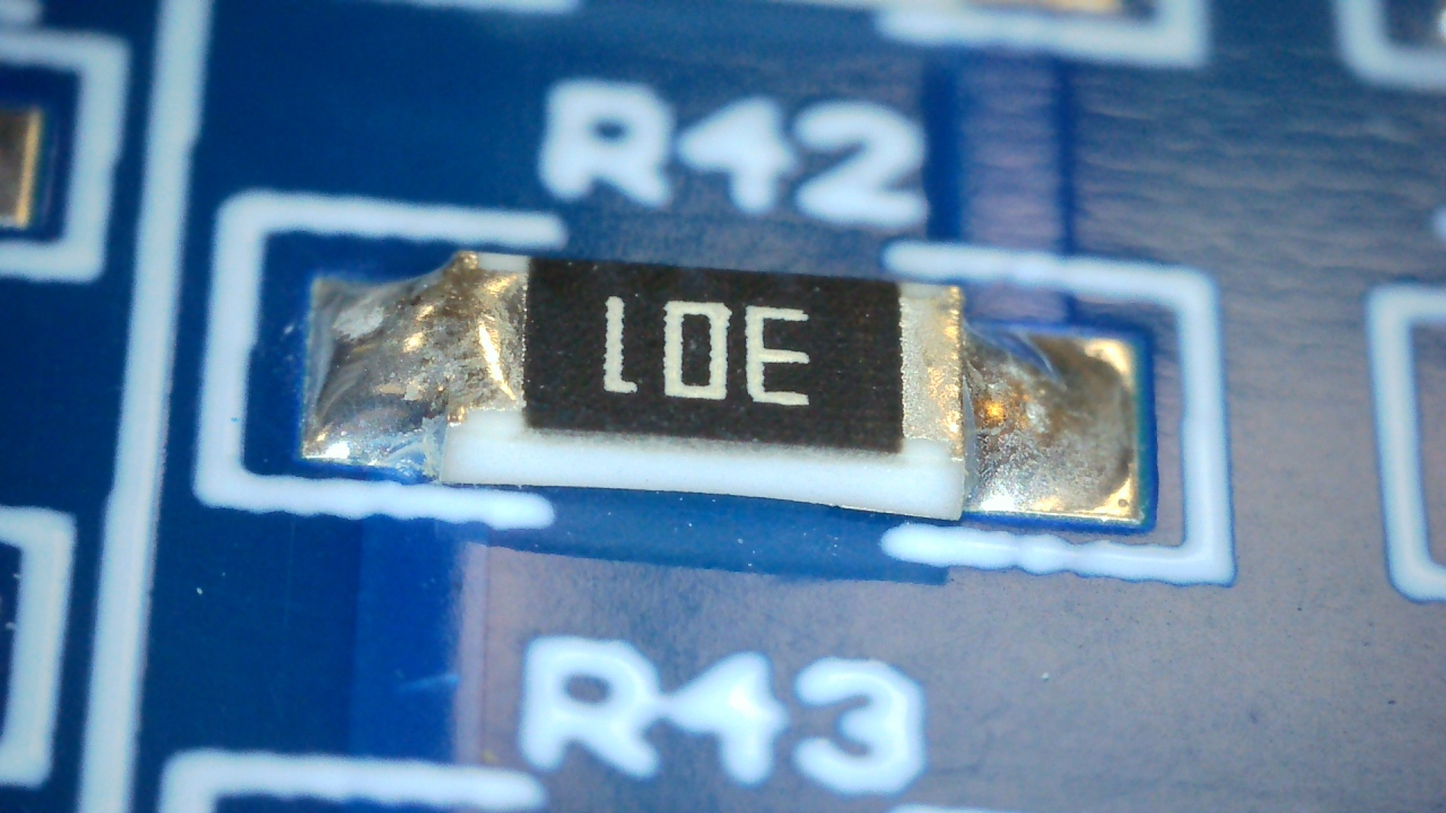NG: (903, 282, 1128, 514), (309, 252, 528, 459)
